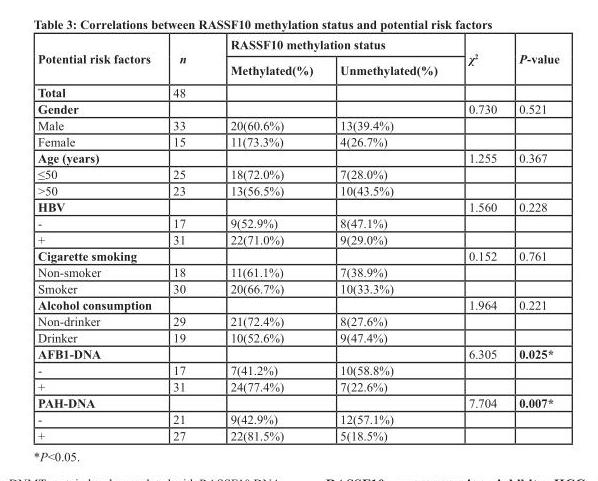table: (37, 36, 558, 442)
table column: (325, 36, 452, 442), (37, 36, 161, 442), (207, 36, 325, 442), (452, 36, 507, 442), (507, 36, 558, 442), (161, 36, 207, 442)
table column header: (37, 36, 558, 80)
table row: (37, 56, 558, 80), (37, 36, 558, 56), (37, 80, 558, 100), (37, 116, 558, 133), (37, 165, 558, 182), (37, 214, 558, 231), (37, 263, 558, 280), (37, 312, 558, 329), (37, 361, 558, 378), (37, 100, 558, 116), (37, 133, 558, 149), (37, 149, 558, 165), (37, 182, 558, 198), (37, 198, 558, 214), (37, 231, 558, 247), (37, 247, 558, 263), (37, 280, 558, 296), (37, 296, 558, 312), (37, 329, 558, 345), (37, 345, 558, 361), (37, 378, 558, 394), (37, 394, 558, 410), (37, 410, 558, 426), (37, 426, 558, 442)
table spanning cell: (37, 36, 161, 80), (207, 36, 452, 56), (452, 36, 507, 80), (507, 36, 558, 80), (161, 36, 207, 80)
